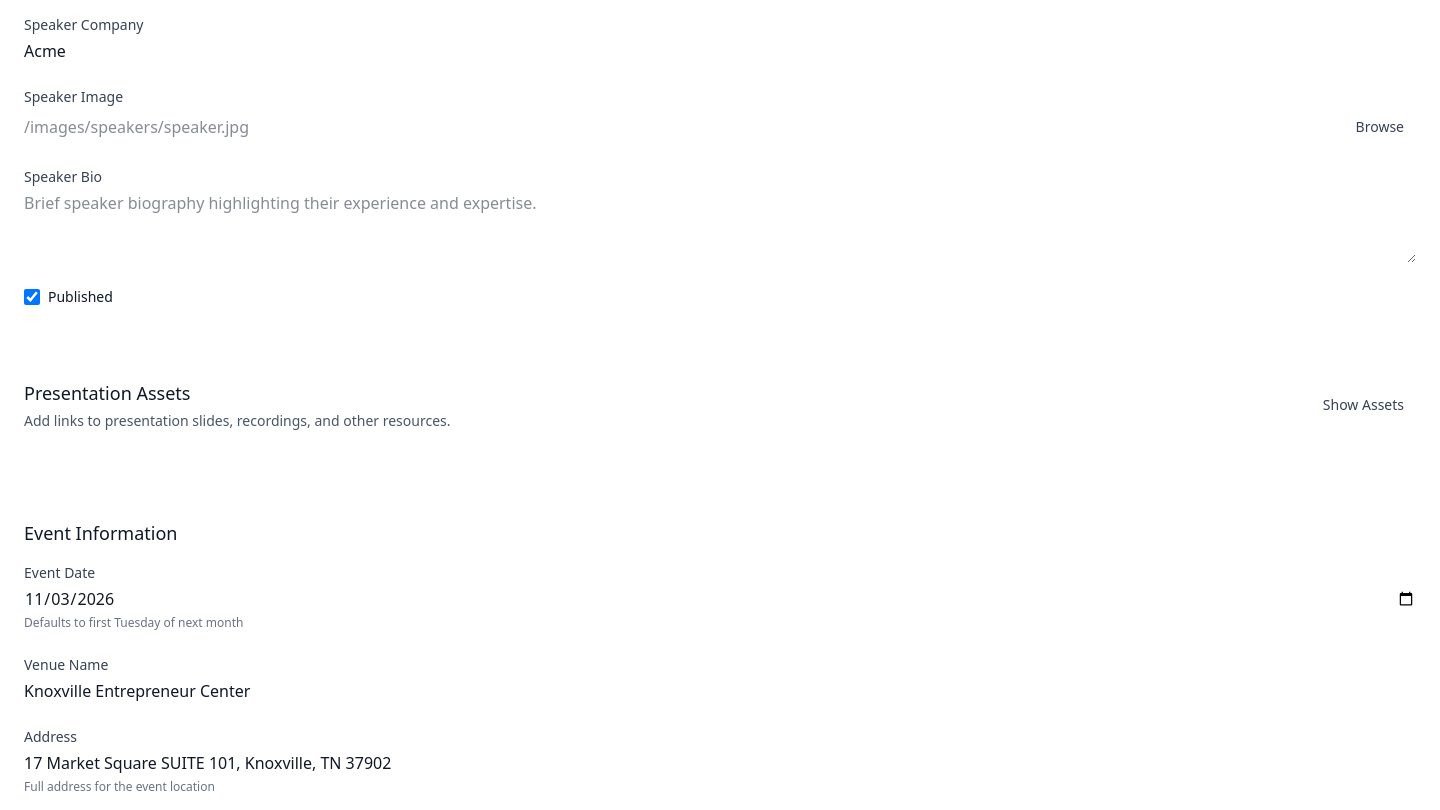
Test: BlogPostEditor - assets › defaults to an empty asset list and no searched paths when the response omits both fields
The width and height of the screenshot is (1440, 810).
(page scrolled)
Step 1. Click the button "Show Assets" → point(1363, 405), box [1311,389,1416,421]
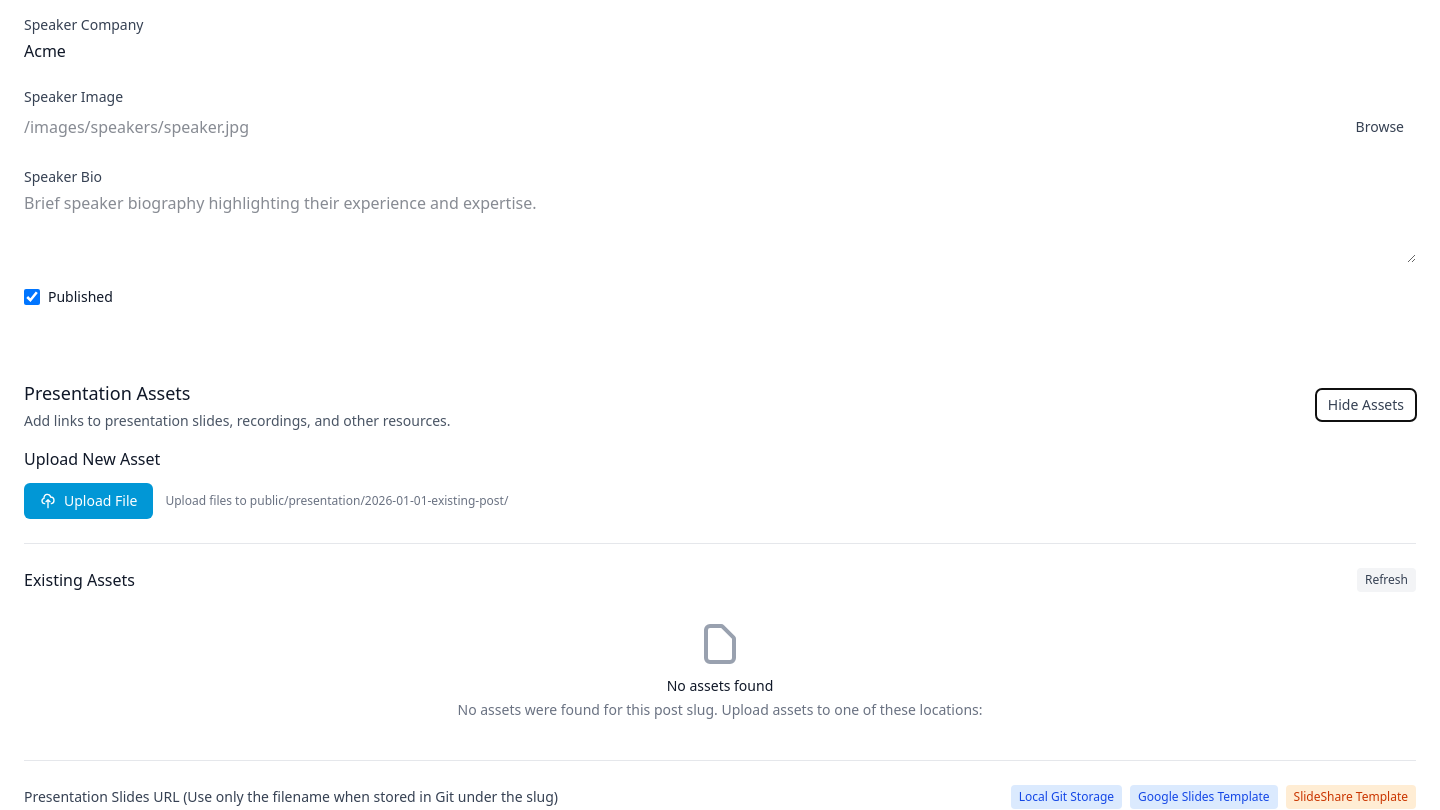
Check: the heading "No assets found" is shown, box [667,676,773,695]
